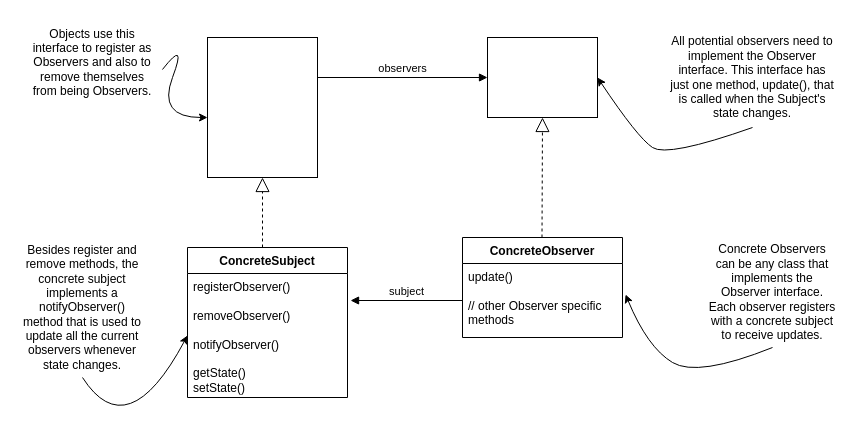
Some shapes in this 854 by 423 pixel diagram are drawn without their labels. Each missing label, with the centre of its shape:
<<Interface>> Observer update(): (542,77)
<<Interface>> Subject registerObserver() removeObserver() notifyObserver(): (262,107)
